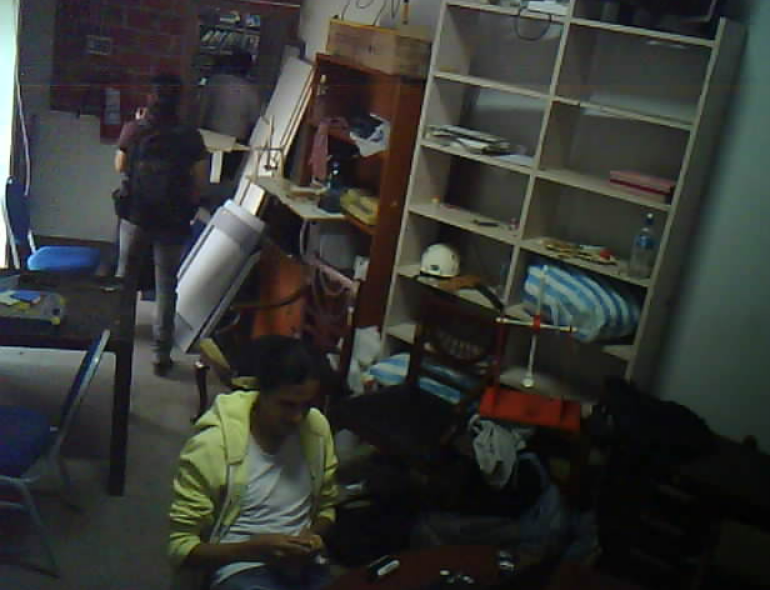person: (149, 320, 347, 590), (95, 67, 200, 383), (179, 29, 282, 165)
